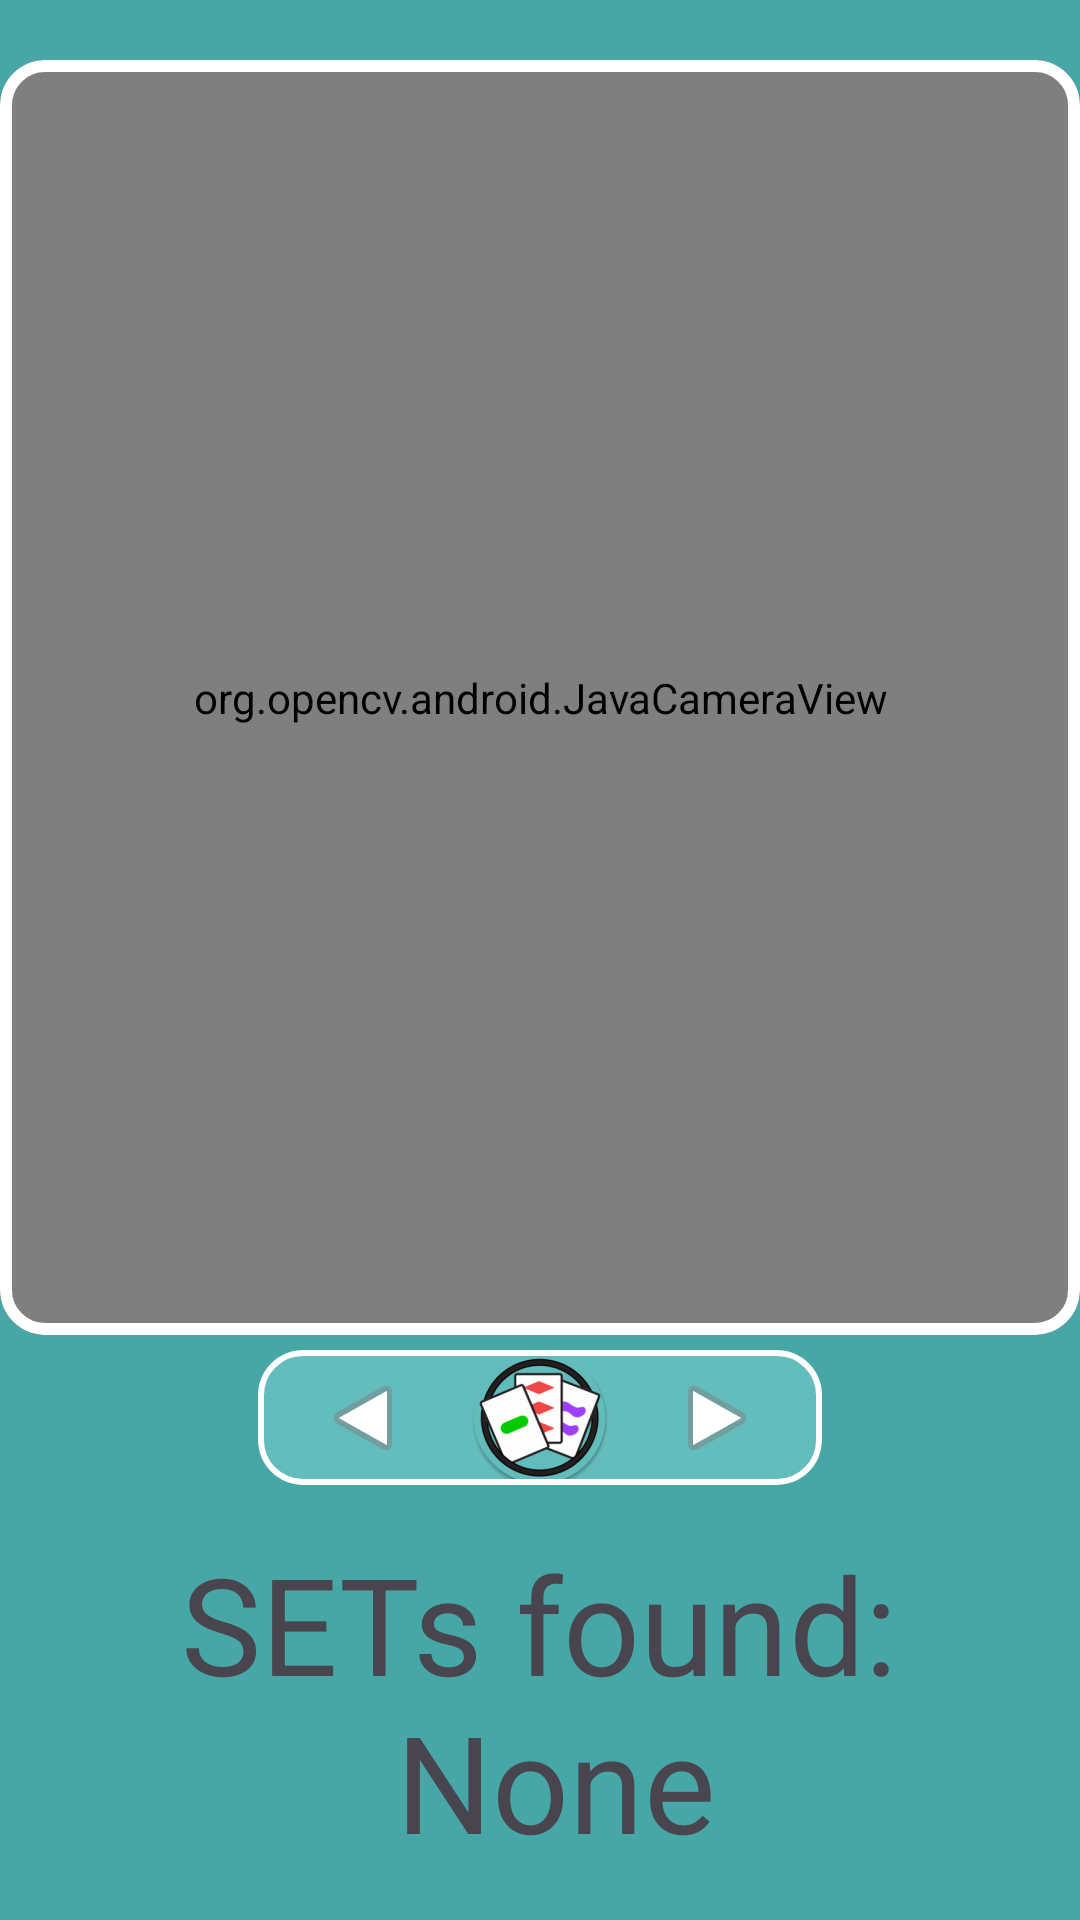

Icons on this 1080px×1920px Android screen, each with the point to tap as (x=x, y=y):
set round: (x=540, y=1417)
